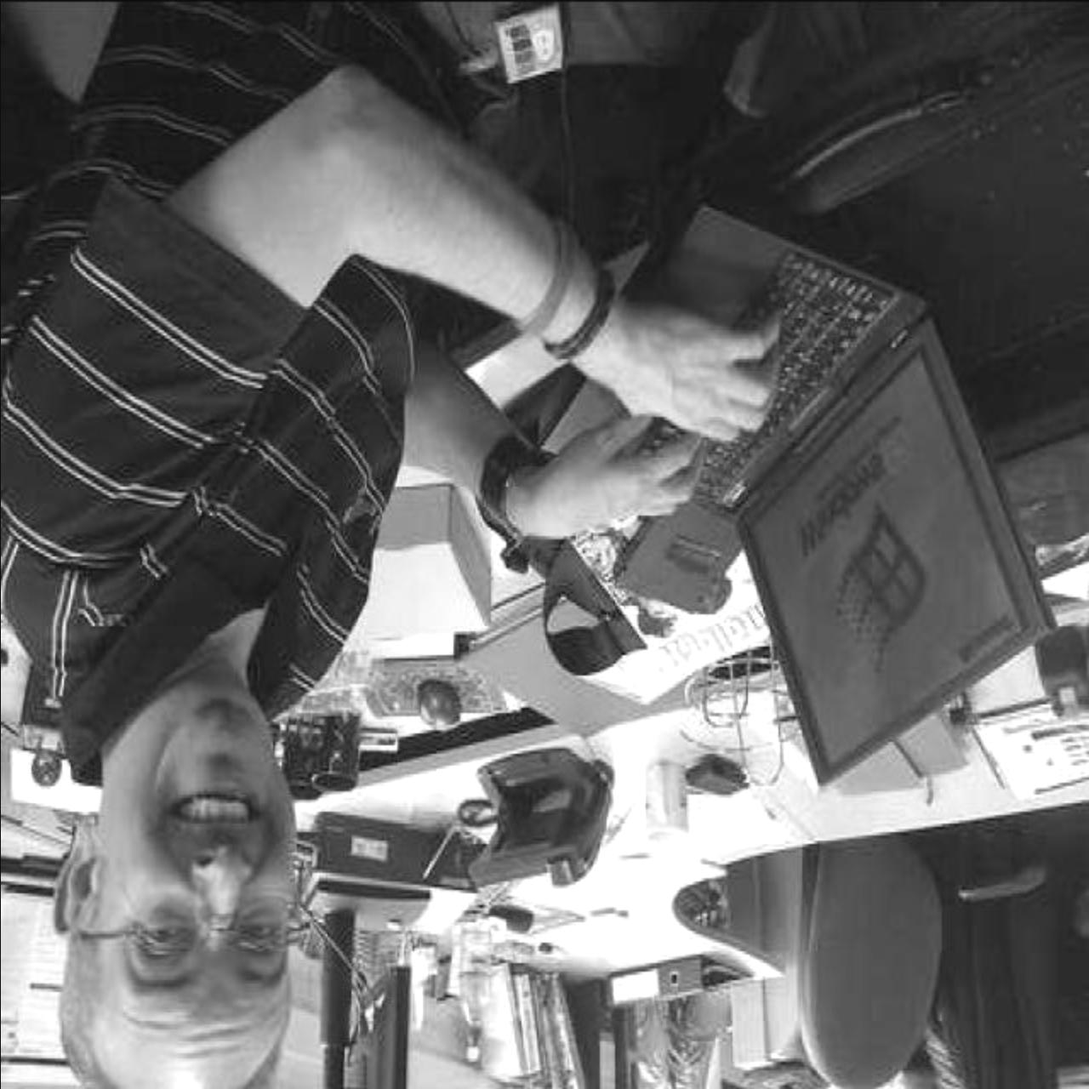laptop: (567, 185, 1060, 764)
